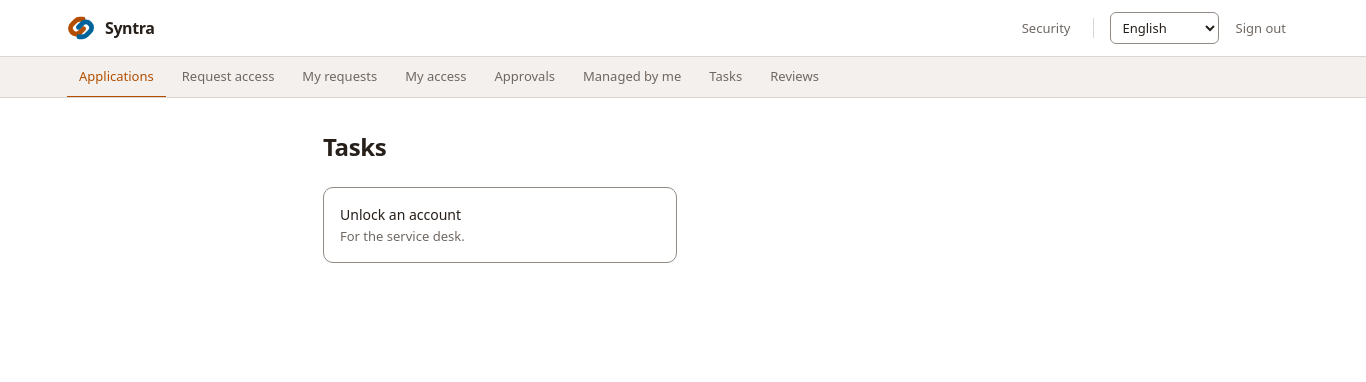
Test case: TasksPage › will not run until the required field is filled in
The width and height of the screenshot is (1366, 382).
Step 1. Click the button "Unlock an account For the service desk." → (401, 215), box 323,187 -> 677,263
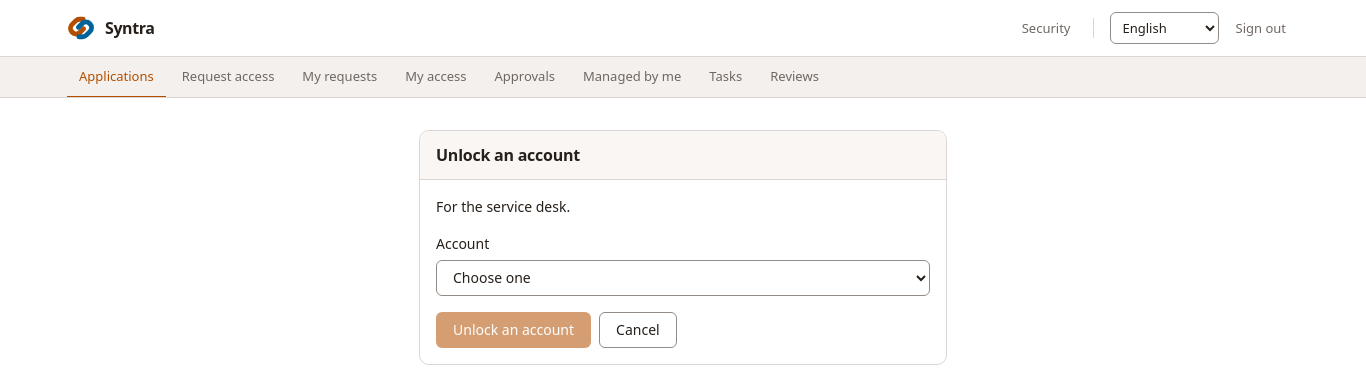
Expected: the button "Unlock an account" is disabled, 436,312 -> 591,348
Step 2. Select "Ada Lovelace (ada)" in the dropdown labelled "Account" → (683, 278), box 436,260 -> 930,296
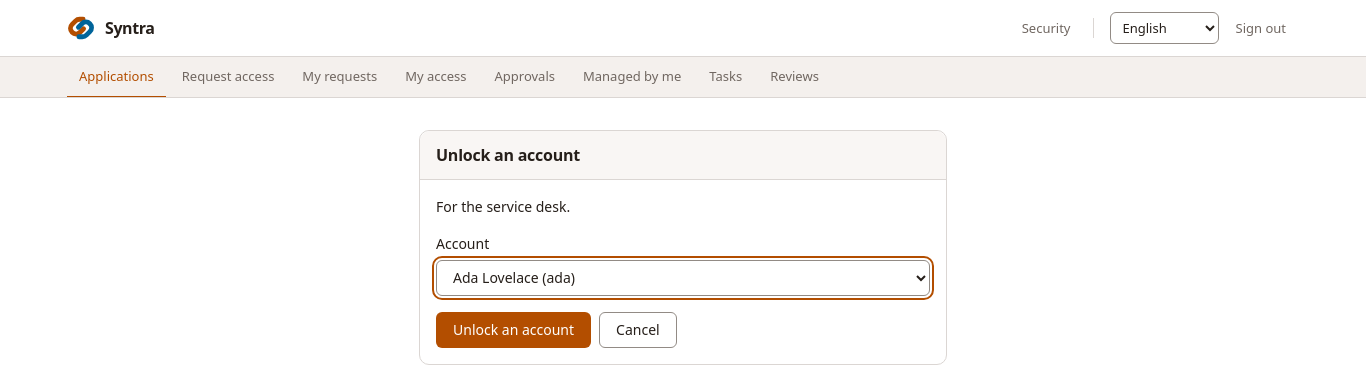
Expected: the button "Unlock an account" is enabled, 436,312 -> 591,348
